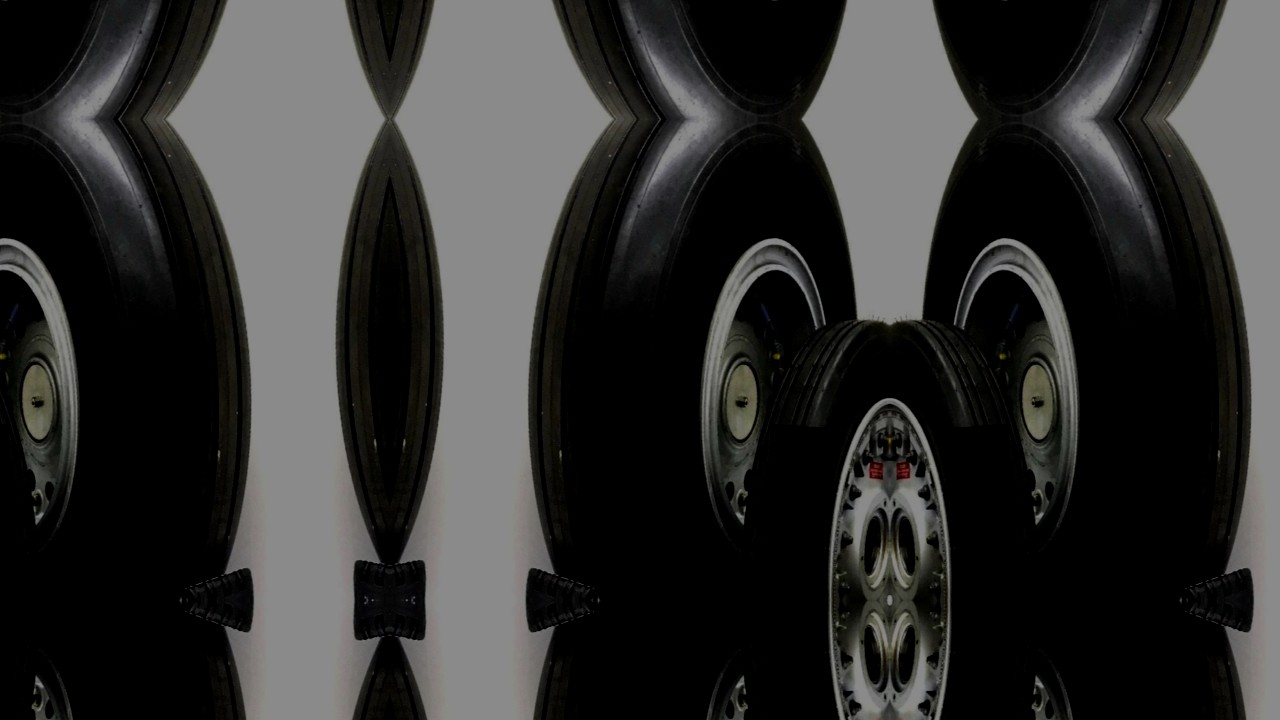wheel: (453, 119, 890, 601), (890, 119, 1280, 601), (0, 119, 326, 601), (262, 119, 390, 601), (390, 119, 517, 601), (701, 302, 890, 601), (890, 302, 1079, 601), (453, 0, 890, 119), (453, 601, 890, 720), (890, 0, 1280, 119), (890, 601, 1280, 720), (0, 0, 326, 119), (0, 601, 326, 720), (0, 302, 78, 601), (701, 601, 890, 720), (890, 601, 1079, 720), (262, 0, 390, 119), (262, 601, 390, 720), (390, 0, 517, 119), (390, 601, 517, 720), (0, 601, 78, 720), (1263, 119, 1280, 601)
